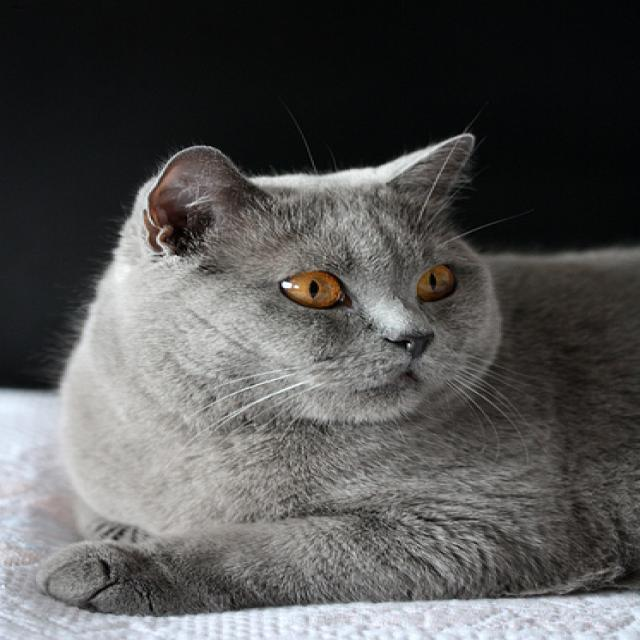British_Shorthair: (107, 124, 523, 431)
